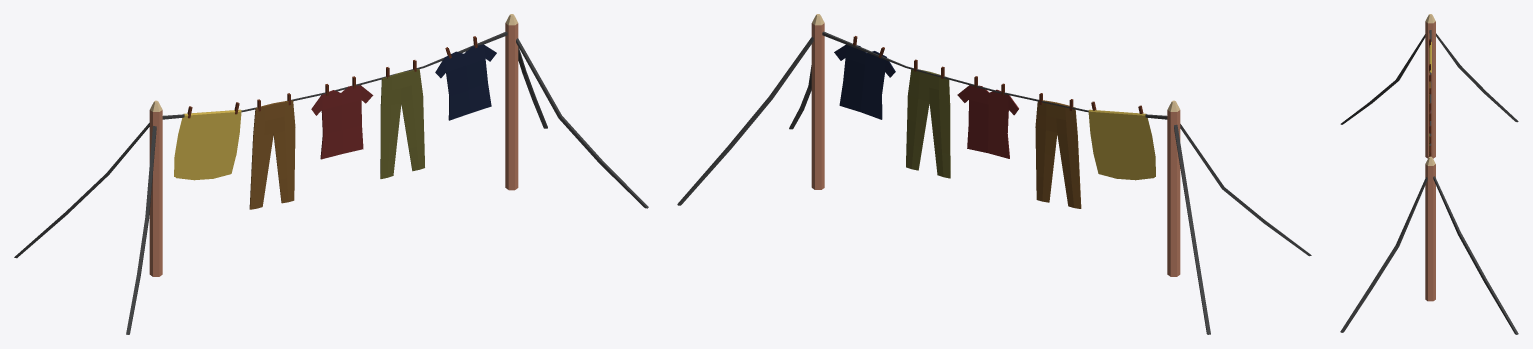
Rendered from clothesline.fbx.
3 views of the same model, side by side, from view 1: azimuth 30°, elevation 25°; view 2: azimuth 150°, elevation 25°; view 3: azimuth 270°, elevation 25° (orthographic). The views are drawn at different scales.
Visible parts, largest first — view 1: clothesline; view 2: clothesline; view 3: clothesline.
Part boxes in pixels (box(x1,y1,x2,y2)): clothesline: box(14, 14, 648, 334); clothesline: box(677, 14, 1311, 334); clothesline: box(1340, 14, 1518, 334).
Bounding box in the file's own units: 369 × 114 × 130.
